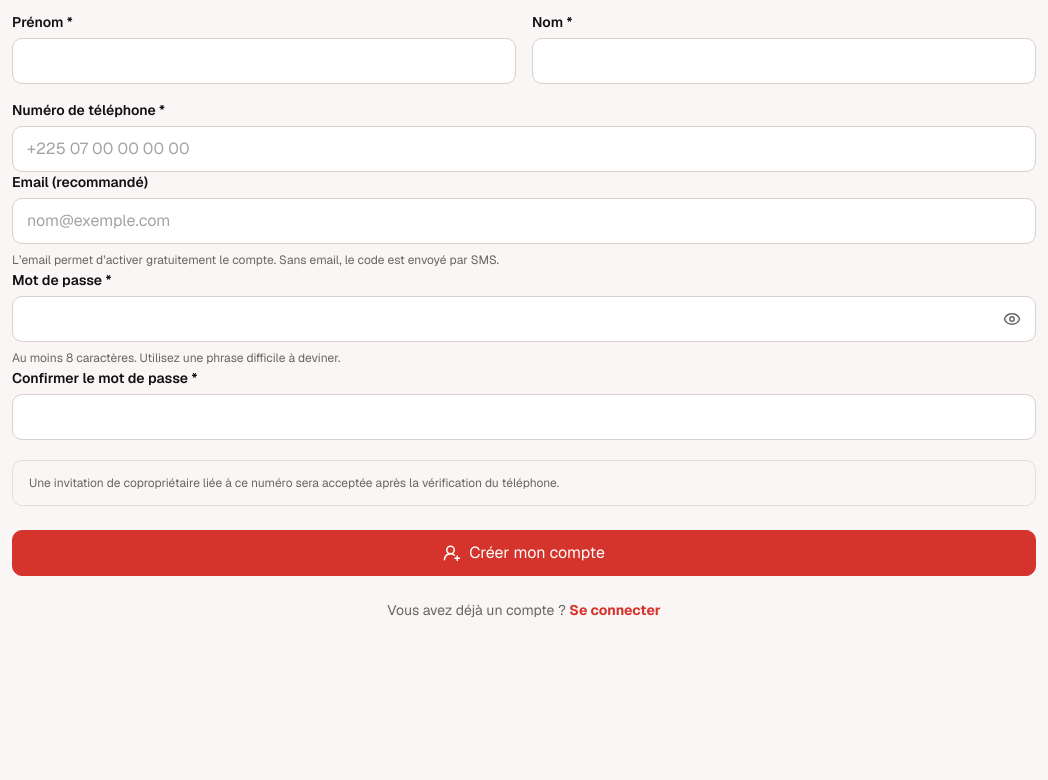
Test: RegisterForm › shows error message on registration failure
Type "Jean" into the field labelled "Prénom *" at (264, 61), box [12,38,516,84]
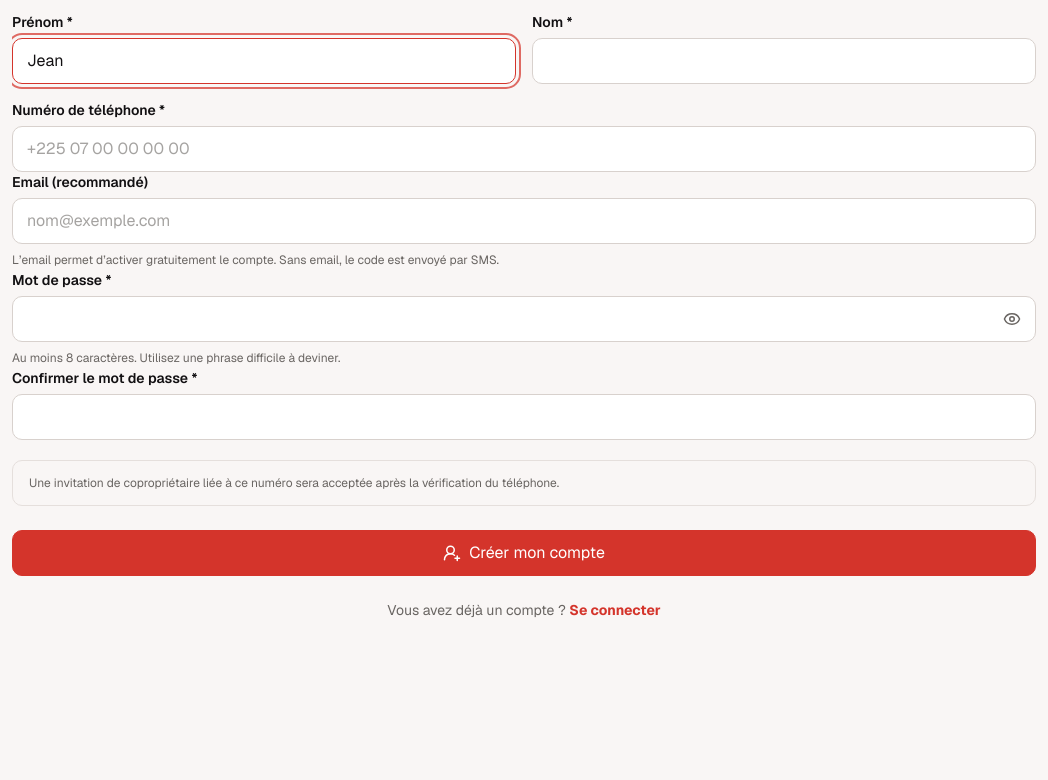
Type "Dupont" into the field labelled "Nom *" at (784, 61), box [532,38,1036,84]
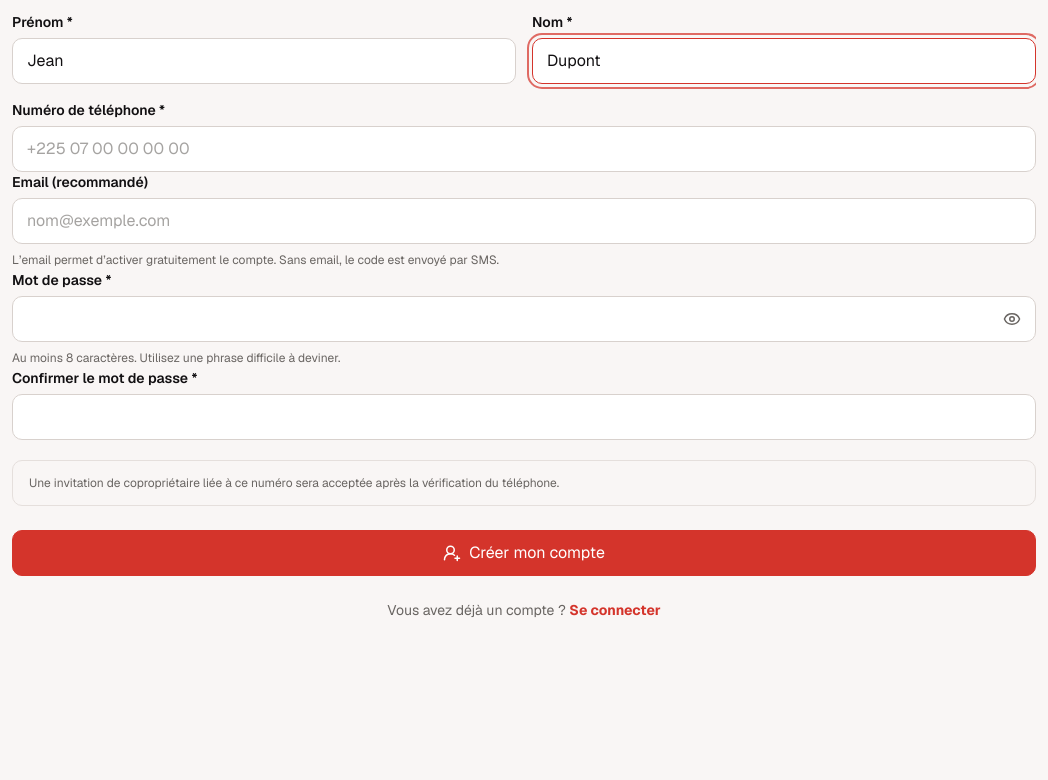
Type "+22507000000" into the field labelled "Numéro de téléphone *" at (524, 149), box [12,126,1036,172]
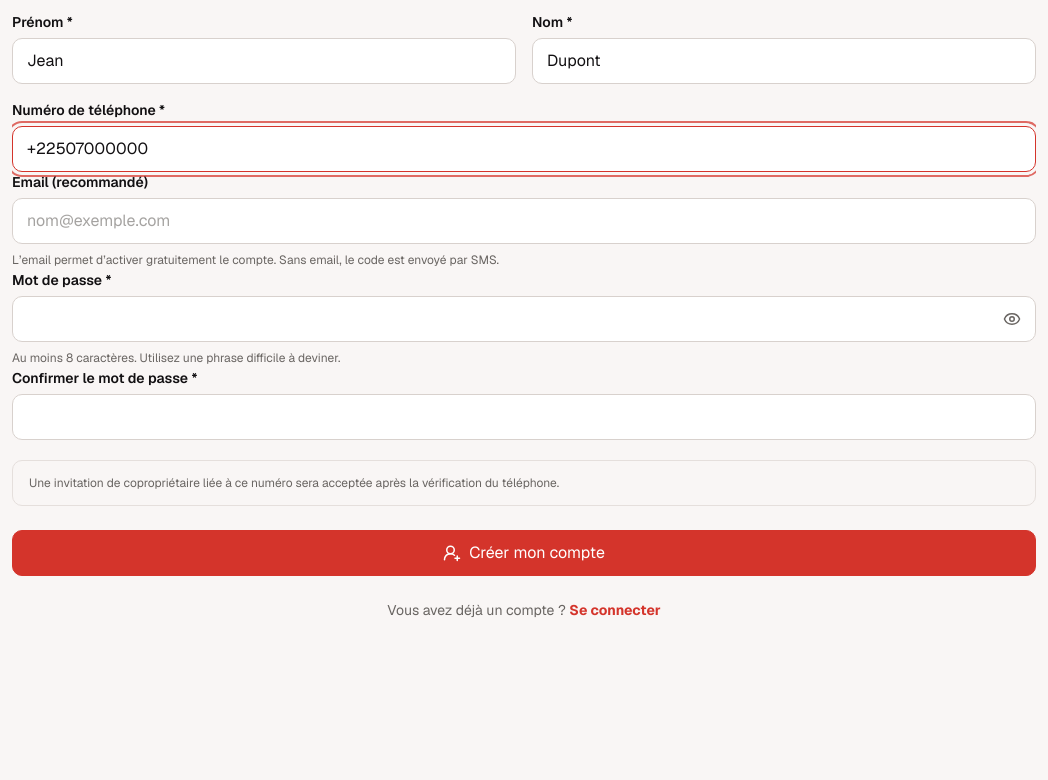
Type "secret123" into the 1st password field at (524, 319), box [12,296,1036,342]
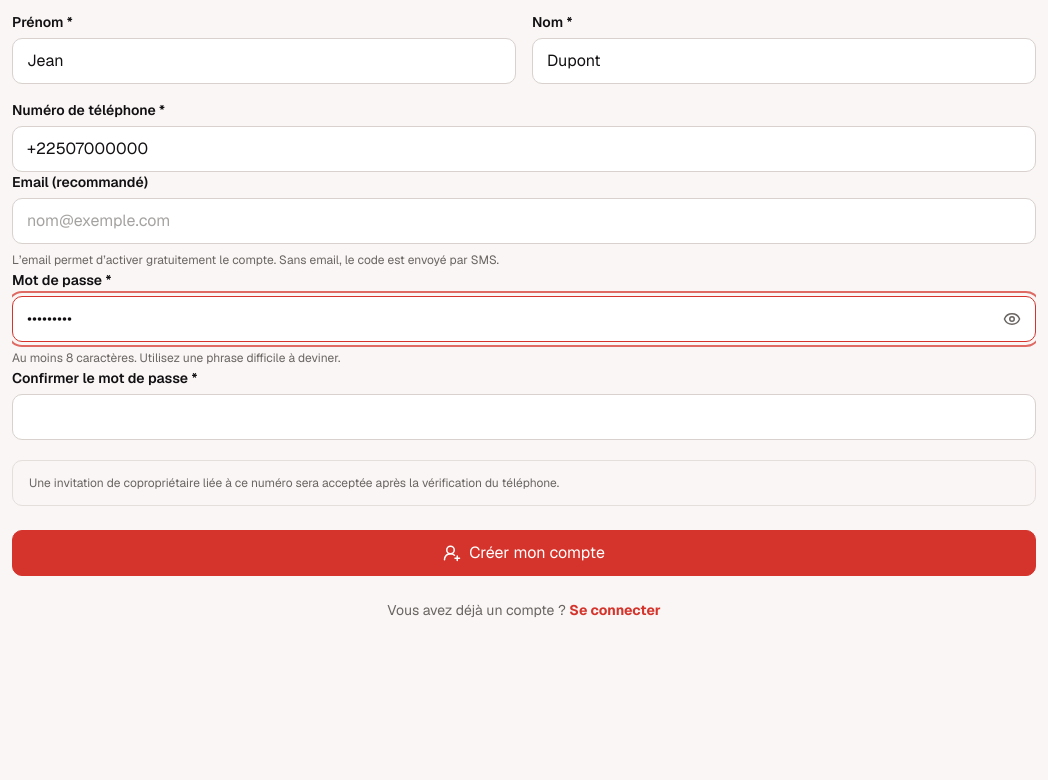
Type "secret123" into the password field labelled "Confirmer le mot de passe *" at (524, 417), box [12,394,1036,440]
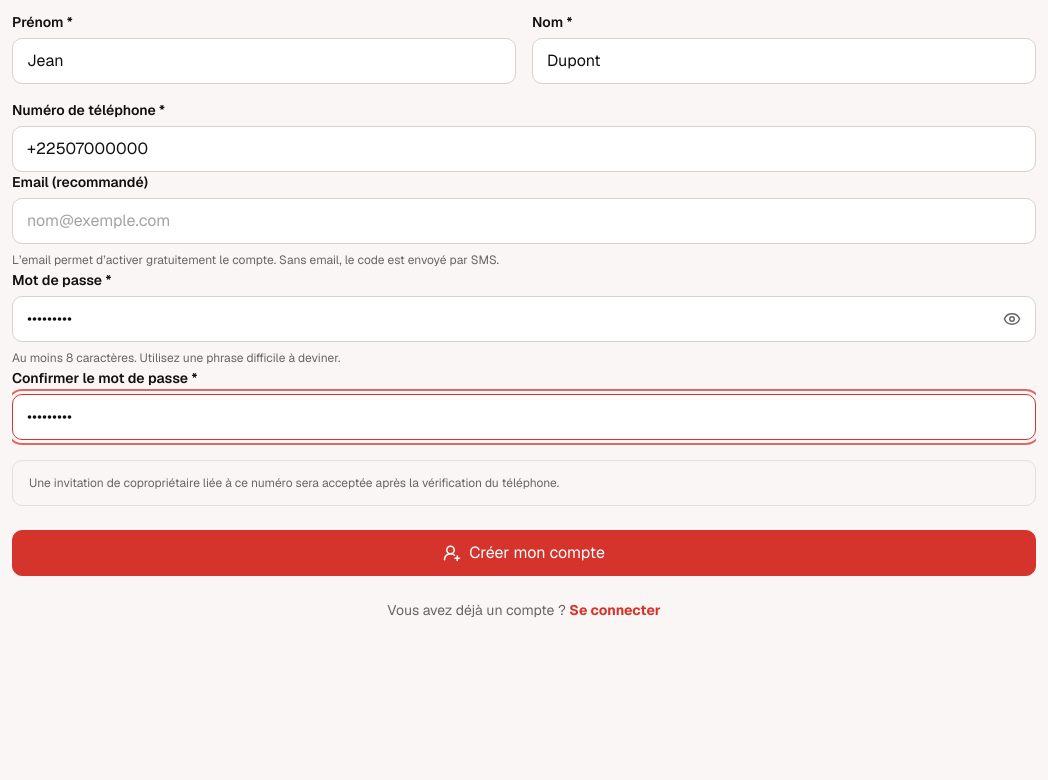
Click the button "Créer mon compte" at (524, 553), box [12,530,1036,576]
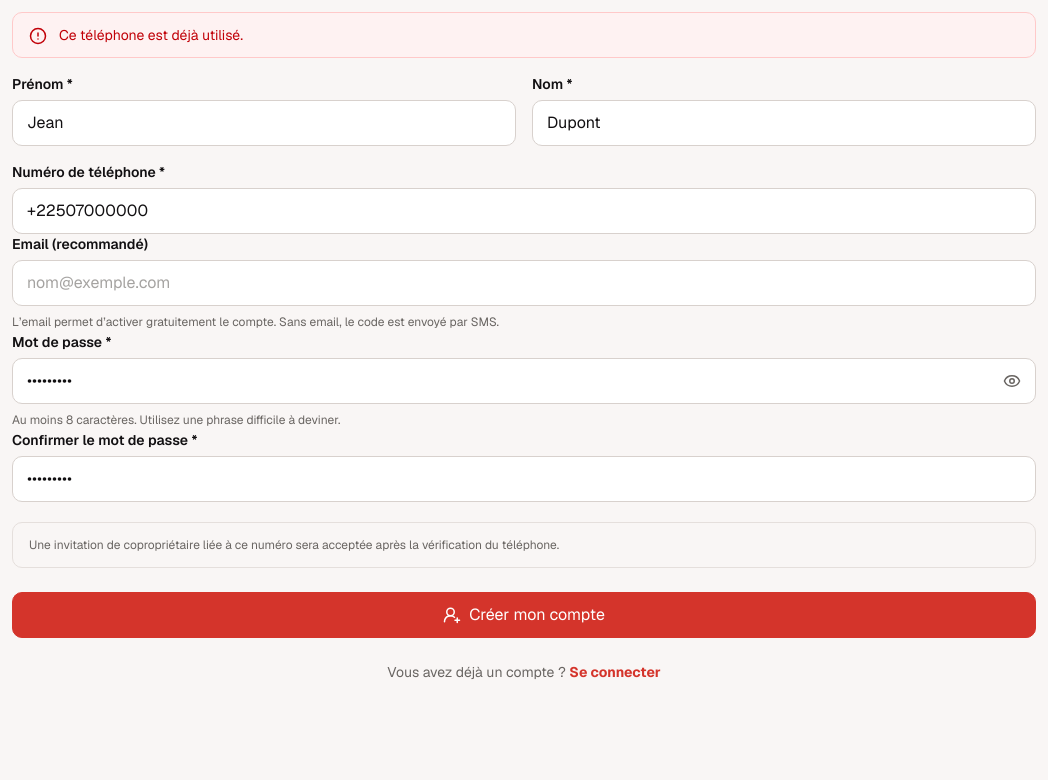
Check: the text "Ce téléphone est déjà utilisé." is shown, box [59,25,243,45]
